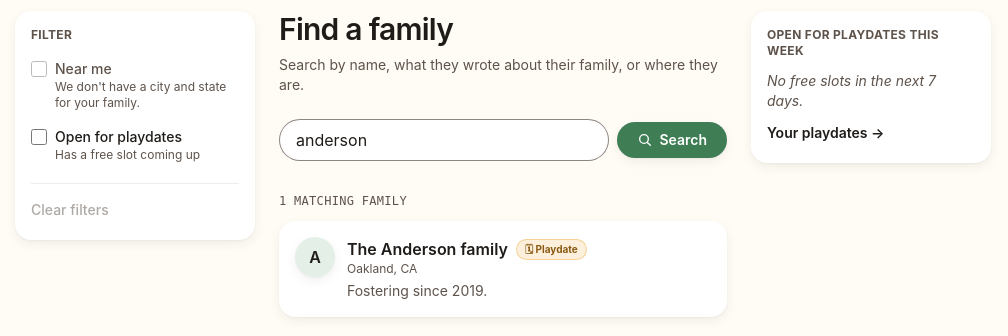
it: SearchPage query › returns to the browse list when the query is cleared
Expected: the link "The Anderson family" is shown, [347, 239, 508, 259]
Clear the field named "Search": (444, 140) [279, 119, 610, 161]
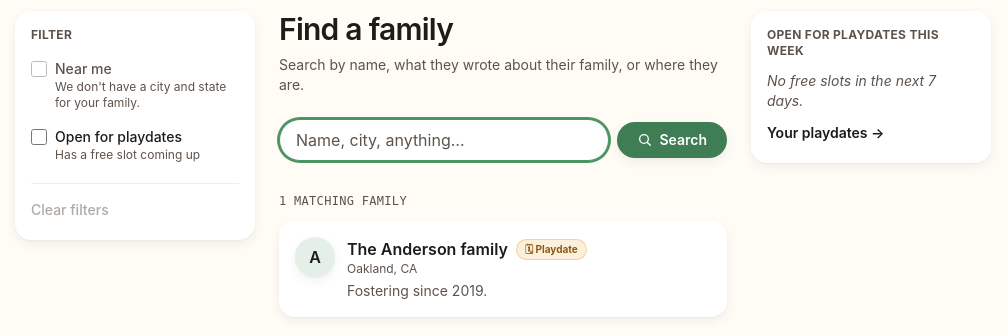
Click the button "Search": (672, 140) [618, 122, 727, 158]
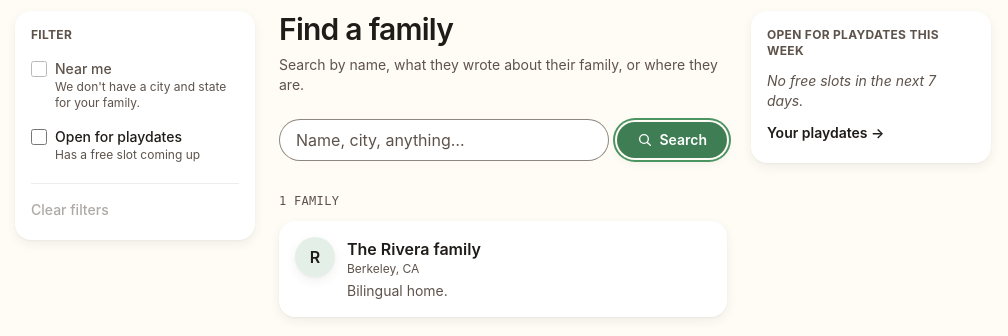
Expected: the link "The Rivera family" is shown, [347, 239, 481, 259]
Expected: the link "The Anderson family" is gone
